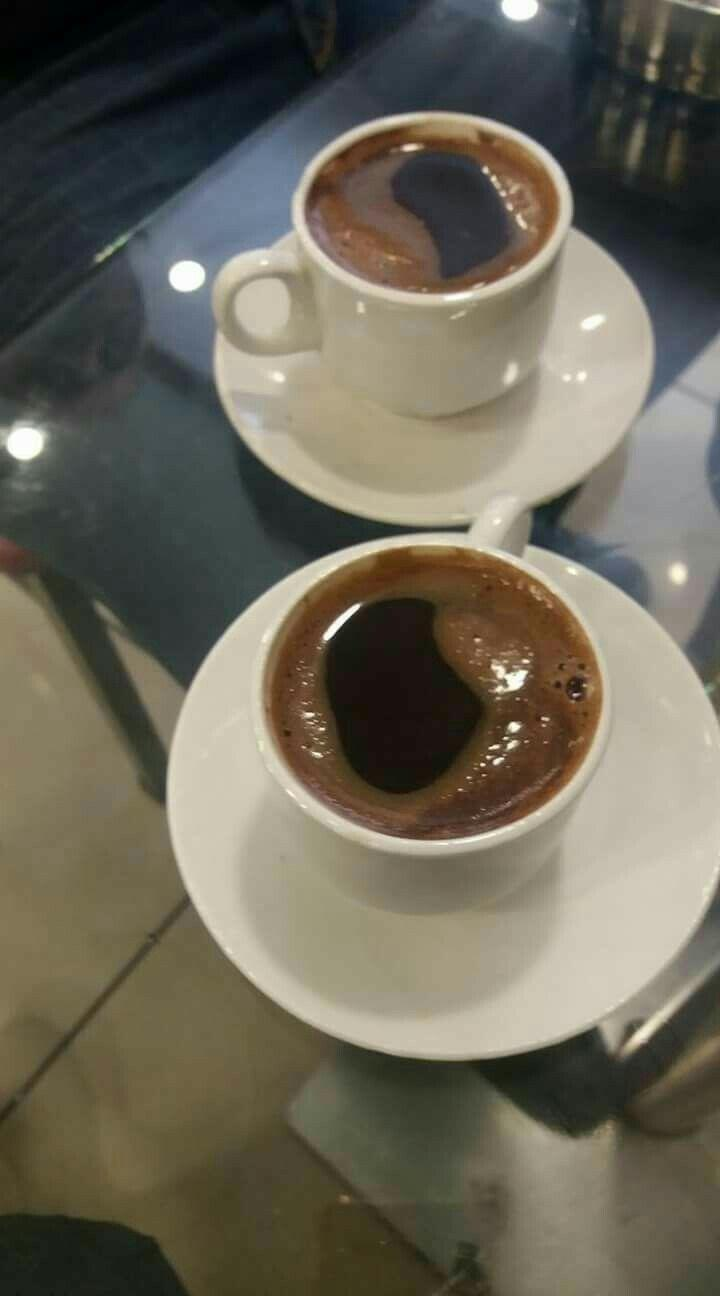cup-handle: (252, 489, 616, 919), (208, 108, 576, 420)
